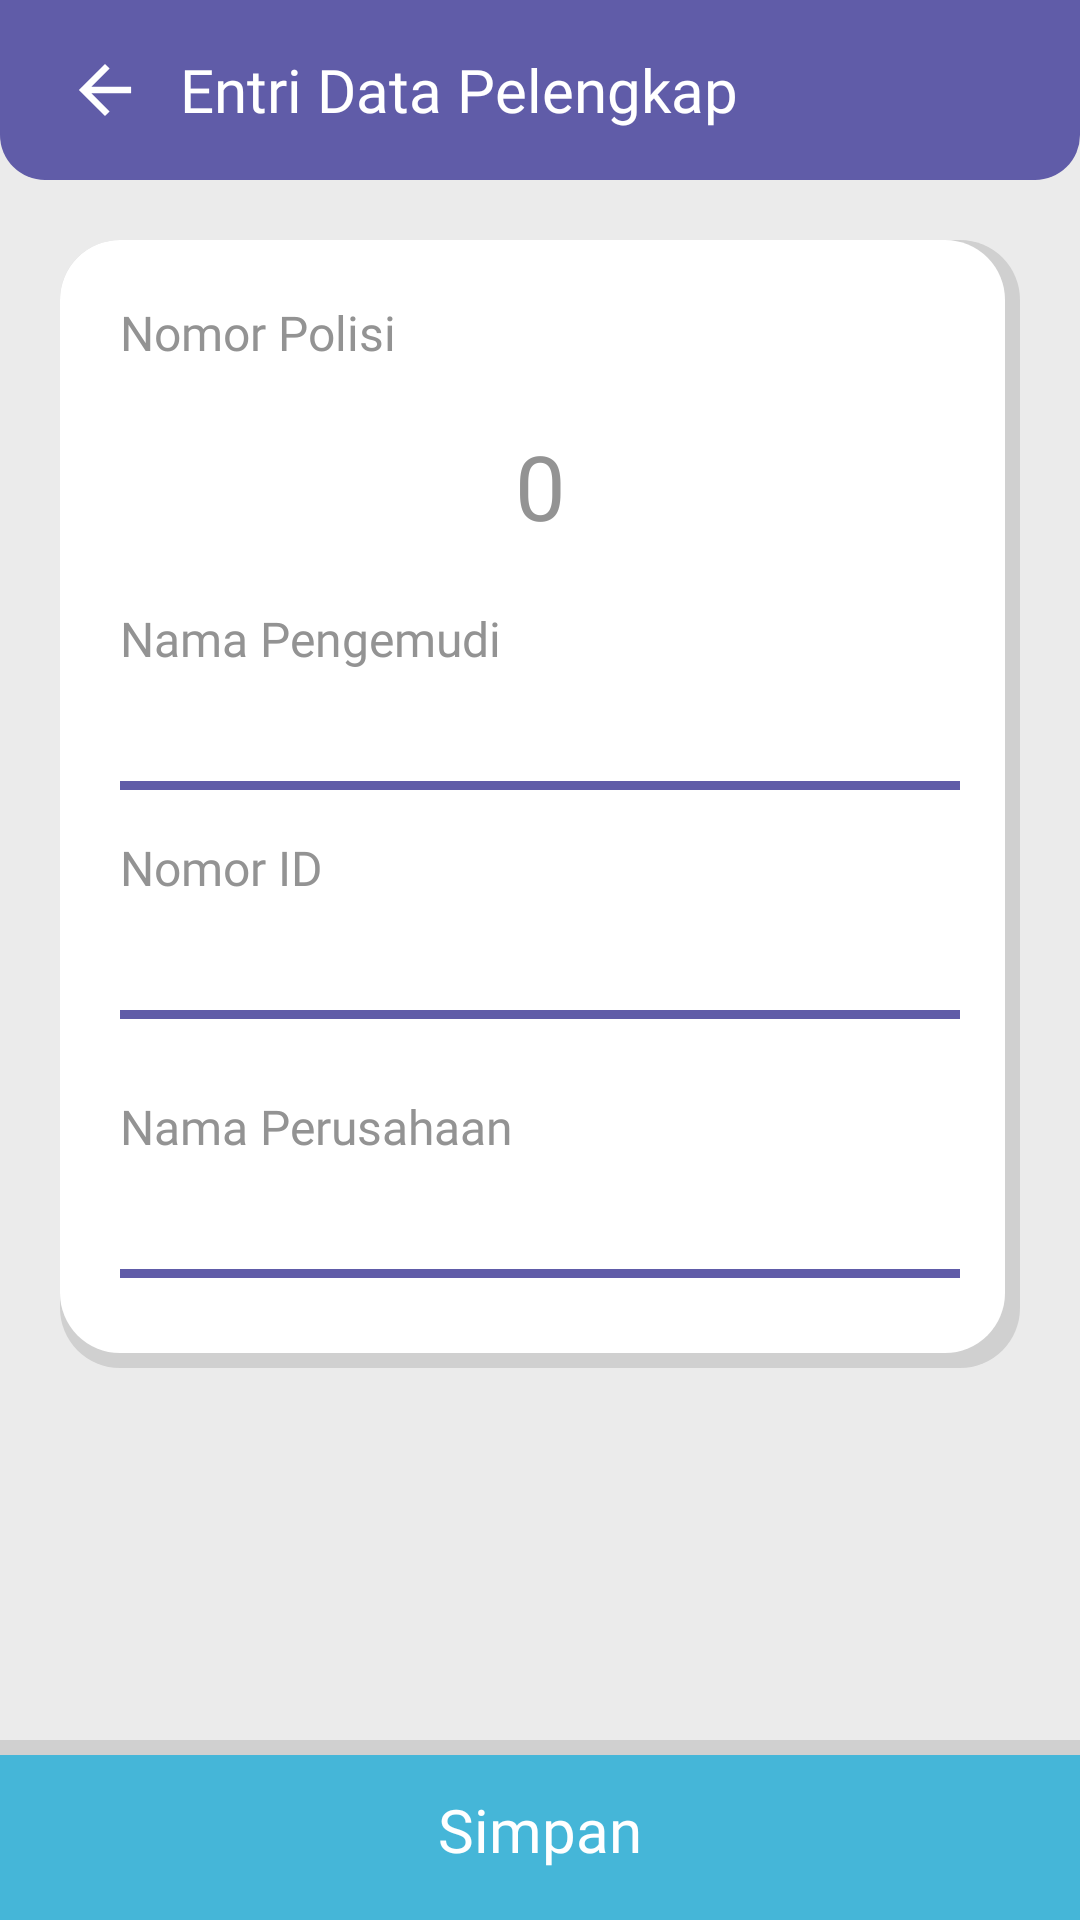

Icons on this 1080px x 1920px Android screen, each with its box as (x1, y1, x2, y2):
arrow back: (79, 64, 131, 116)
